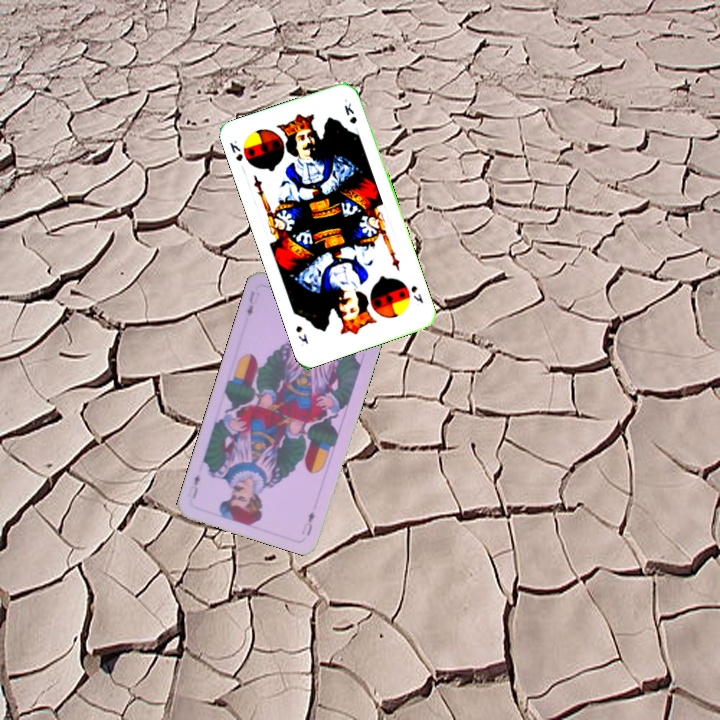EU: (242, 287, 262, 319), (297, 508, 317, 538)
SK: (225, 136, 246, 164), (407, 281, 426, 306)
